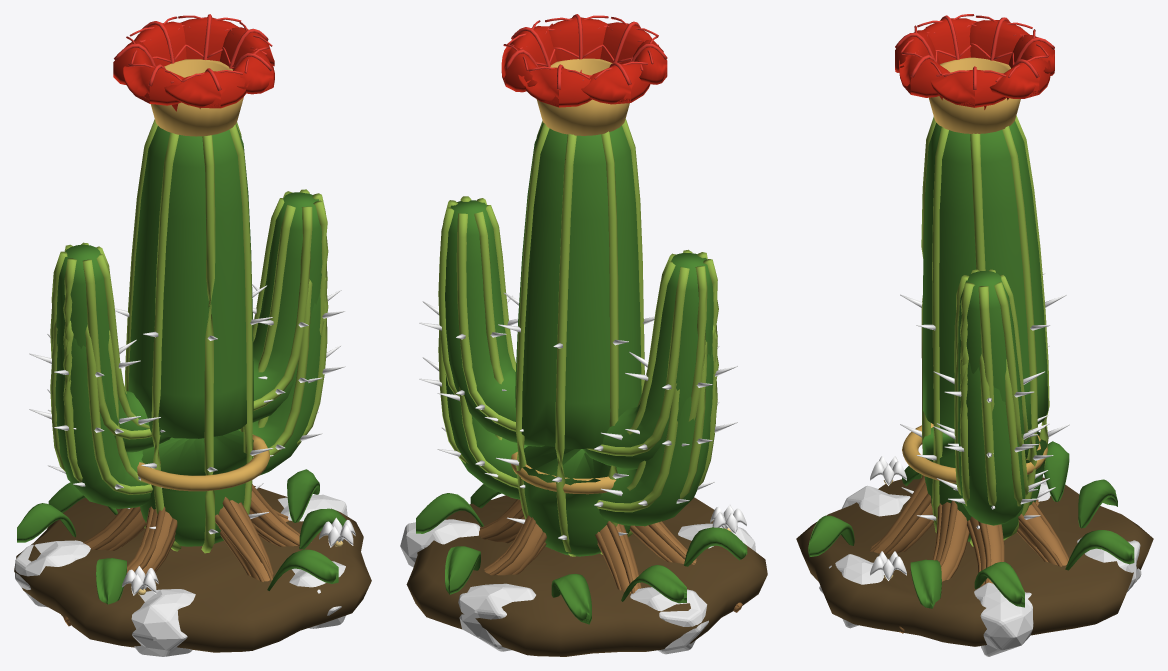
The model's file is cactus-4.fbx.
3 renders of one model, left to right at view 1: azimuth 30°, elevation 25°; view 2: azimuth 150°, elevation 25°; view 3: azimuth 270°, elevation 25°, orthographic. The views are drawn at different scales.
Parts seen in each view (by area): view 1: Turret_PortalBamboo, Petals_PortalBamboo, cactus-4_Organic, Spines_Petal, cactus-4_Bark, cactus-4_Stone, cactus-4_PortalBamboo, CactusMuzzle, Turret_Metal, Petals_Organic, cactus-4_Petal, Turret_Organic; view 2: Turret_PortalBamboo, Petals_PortalBamboo, cactus-4_Organic, Spines_Petal, cactus-4_Stone, cactus-4_PortalBamboo, cactus-4_Bark, CactusMuzzle, Petals_Organic, Turret_Metal, cactus-4_Petal, Turret_Organic; view 3: Turret_PortalBamboo, cactus-4_Organic, Petals_PortalBamboo, Spines_Petal, cactus-4_PortalBamboo, cactus-4_Bark, cactus-4_Stone, CactusMuzzle, Turret_Metal, Petals_Organic, cactus-4_Petal, Turret_Organic.
Part boxes in pixels (left/top/right/bottom): Turret_PortalBamboo: left=125, top=119, right=253, bottom=553; Petals_PortalBamboo: left=50, top=189, right=328, bottom=508; cactus-4_Organic: left=14, top=486, right=371, bottom=652; Spines_Petal: left=113, top=14, right=274, bottom=111; cactus-4_Bark: left=63, top=484, right=311, bottom=626; cactus-4_Stone: left=15, top=494, right=347, bottom=656; cactus-4_PortalBamboo: left=17, top=469, right=346, bottom=604; CactusMuzzle: left=150, top=59, right=243, bottom=136; Turret_Metal: left=137, top=434, right=269, bottom=491; Petals_Organic: left=29, top=284, right=345, bottom=489; cactus-4_Petal: left=122, top=517, right=355, bottom=595; Turret_Organic: left=115, top=285, right=273, bottom=534; Turret_PortalBamboo: left=515, top=119, right=644, bottom=556; Petals_PortalBamboo: left=438, top=196, right=718, bottom=526; cactus-4_Organic: left=406, top=495, right=767, bottom=656; Spines_Petal: left=501, top=14, right=667, bottom=107; cactus-4_Stone: left=400, top=519, right=755, bottom=654; cactus-4_PortalBamboo: left=416, top=484, right=747, bottom=624; cactus-4_Bark: left=479, top=499, right=742, bottom=612; CactusMuzzle: left=536, top=58, right=629, bottom=135; Petals_Organic: left=419, top=295, right=737, bottom=506; Turret_Metal: left=511, top=452, right=615, bottom=494; cactus-4_Petal: left=710, top=504, right=746, bottom=534; Turret_Organic: left=495, top=292, right=654, bottom=539; Turret_PortalBamboo: left=921, top=115, right=1049, bottom=546; cactus-4_Organic: left=796, top=477, right=1153, bottom=646; Petals_PortalBamboo: left=954, top=269, right=1028, bottom=525; Spines_Petal: left=895, top=14, right=1054, bottom=109; cactus-4_PortalBamboo: left=808, top=441, right=1134, bottom=608; cactus-4_Bark: left=870, top=475, right=1068, bottom=633; cactus-4_Stone: left=819, top=476, right=1141, bottom=656; CactusMuzzle: left=929, top=57, right=1020, bottom=133; Turret_Metal: left=902, top=423, right=1047, bottom=483; Petals_Organic: left=933, top=273, right=1049, bottom=509; cactus-4_Petal: left=870, top=456, right=906, bottom=580; Turret_Organic: left=900, top=294, right=1069, bottom=529.
Bounding box in the file's own units: 82.07 × 140 × 82.7.
